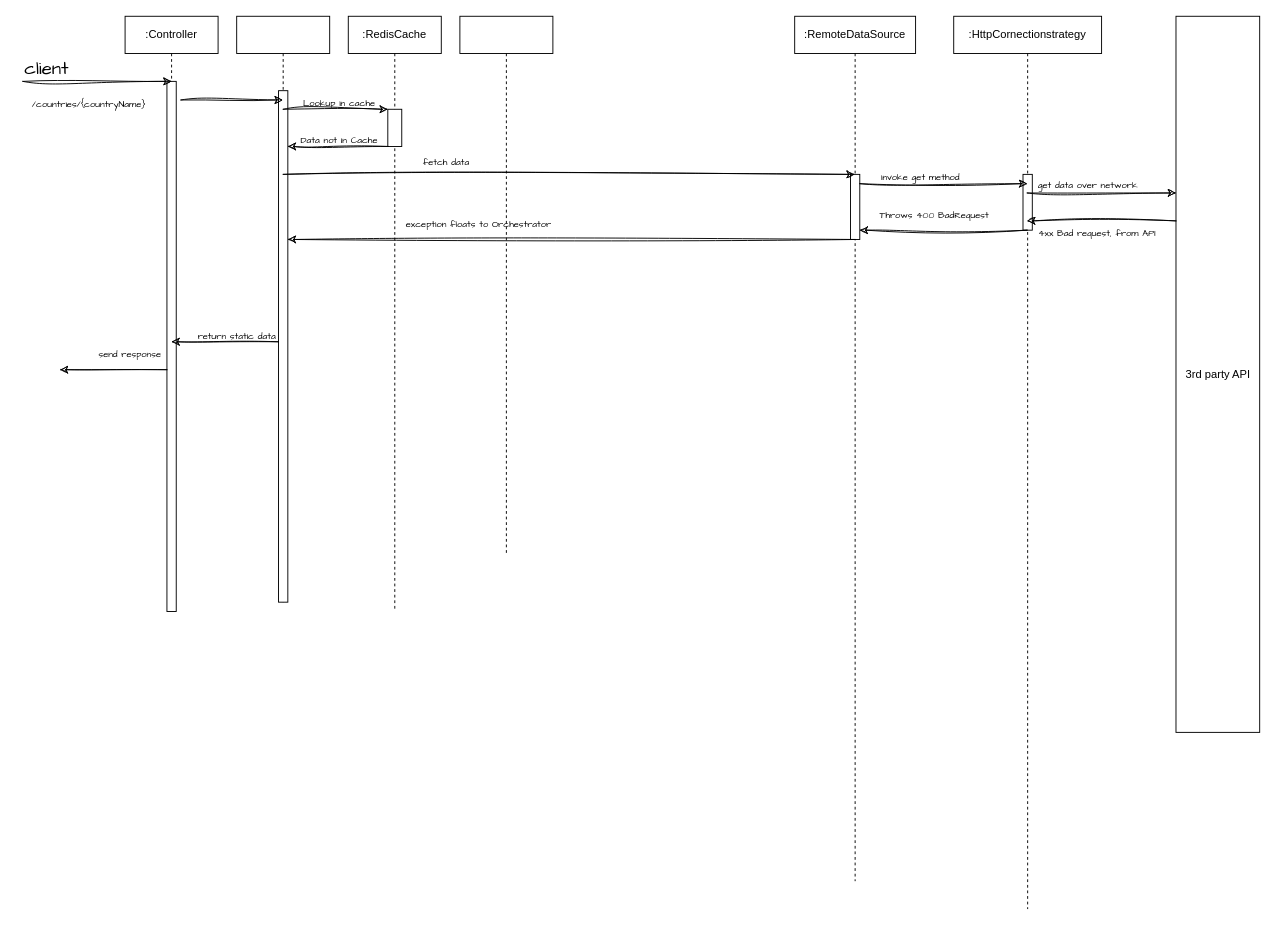
The diagram is 1276 pixels wide and 925 high, and some of its shapes have lost their labels. Each missing label, with the box of its shape:
:NDayAverage: (459, 15, 553, 556)
:Orchestrator: (236, 15, 330, 602)
